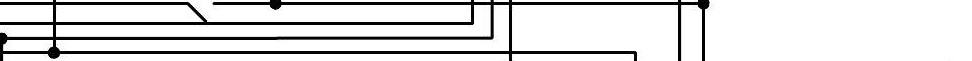115_ds: (187, 1, 217, 22)
